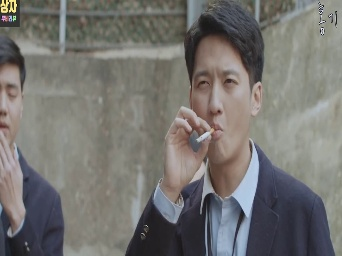smoke: (192, 126, 216, 144)
